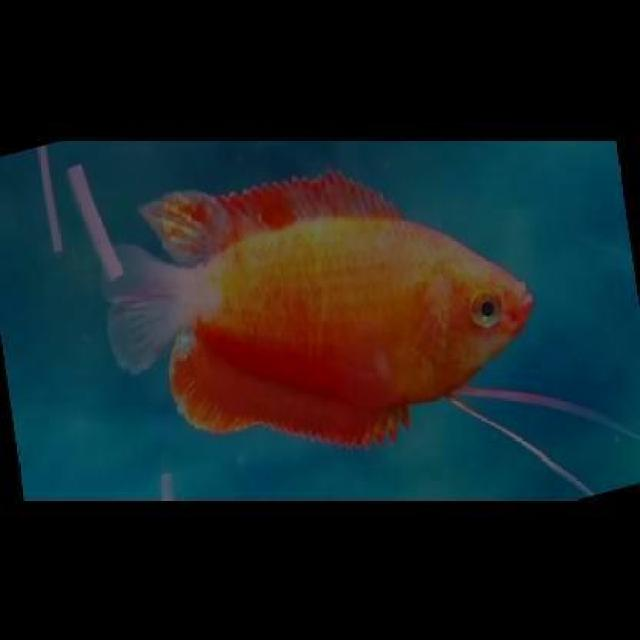Gourami: (101, 168, 532, 450)
